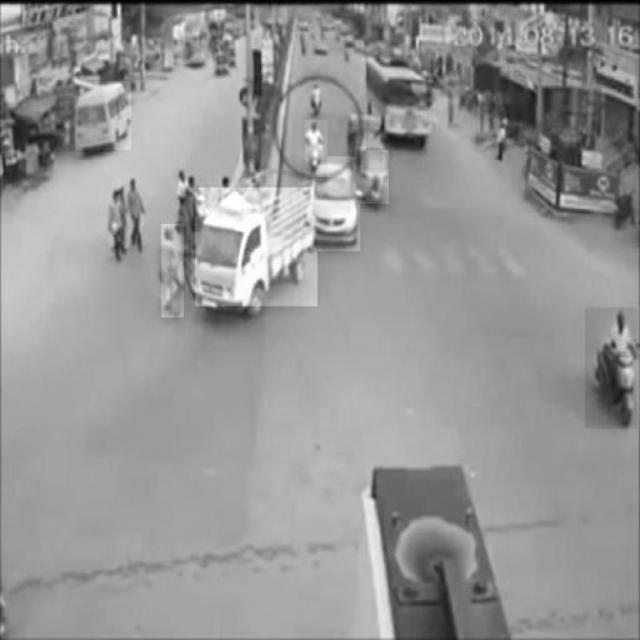person: (75, 82, 131, 150), (162, 225, 184, 318)
vehicle: (195, 188, 317, 306), (586, 308, 638, 429), (367, 55, 429, 149), (313, 157, 360, 251), (355, 147, 389, 204), (306, 120, 328, 178)
